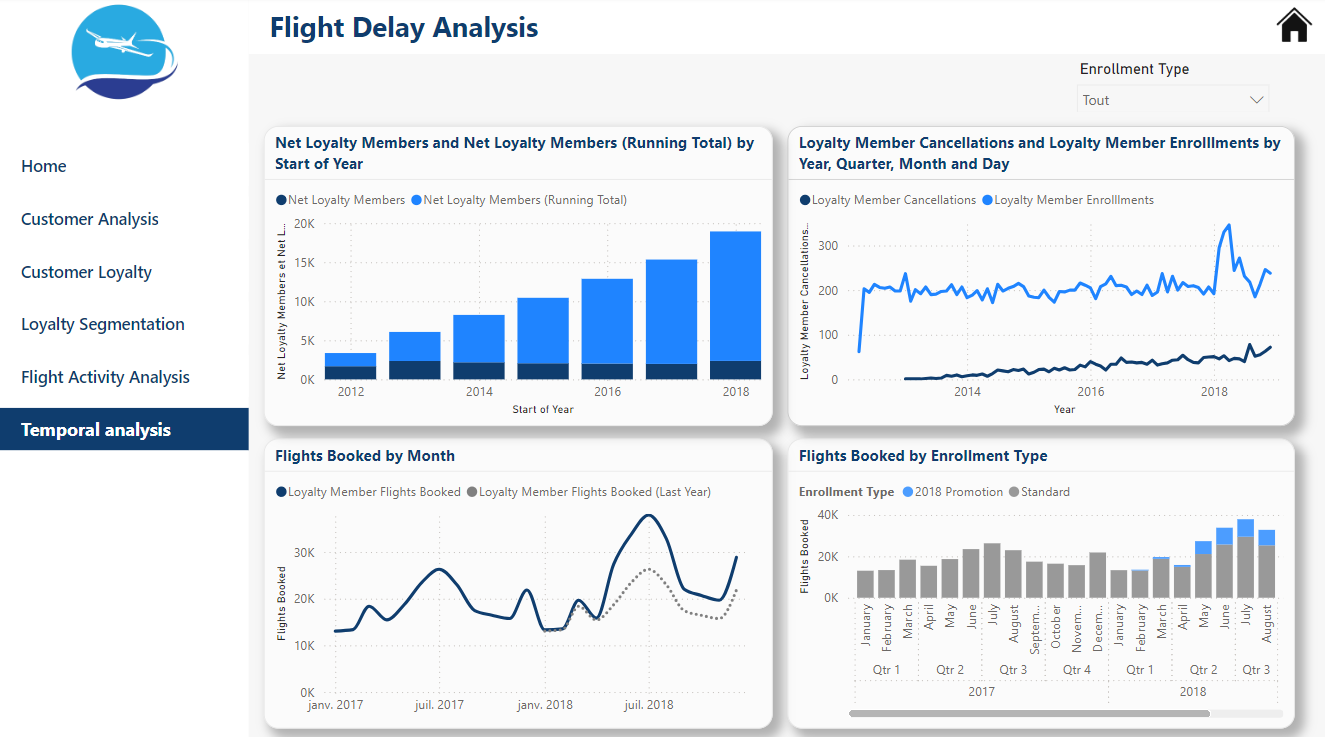

Layout of this report page (visuals, bound fields, positions):
{"tool":"powerbi","page":{"name":"Temporal analysis","canvas":[1280,720],"ordinal":5},"visuals":[{"type":"shape","box":[0,0,240.1,720.4],"z":0},{"type":"shape","box":[239.9,0,1040.1,56.3],"z":1000},{"type":"image","box":[60,0,118.6,107.1],"z":2000},{"type":"image","box":[1218.6,0,61.4,55.7],"z":3000},{"type":"pageNavigator","box":[0,142.4,240.1,298],"z":4000},{"type":"slicer","fields":{"Values":["Customer Loyalty History.Enrollment Type"]},"box":[1029.1,56.7,206.3,55.5],"z":5000},{"type":"lineChart","title":"Loyalty Member Cancellations and Loyalty Member Enrolllments by Year, Quarter, Month and Day","fields":{"Y":["Measures Table.Loyalty Member Cancellations","Measures Table.Loyalty Member Enrolllments"],"Category":["Calendar.Start of Month.Variation.Date Hierarchy.Year","Calendar.Start of Month.Variation.Date Hierarchy.Quarter","Calendar.Start of Month.Variation.Date Hierarchy.Month","Calendar.Start of Month.Variation.Date Hierarchy.Day"]},"box":[760.1,125.5,489.8,289.5],"z":6000},{"type":"columnChart","title":"Net Loyalty Members and Net Loyalty Members (Running Total) by Start of Year","fields":{"Category":["Calendar.Start of Year Hierarchy.Start of Year","Calendar.Start of Year Hierarchy.Start of Quarter","Calendar.Start of Year Hierarchy.Start of Month"],"Y":["Measures Table.Net Loyalty Members","Measures Table.Net Loyalty Members (Running Total)"]},"box":[254.6,125.5,491,289.5],"z":7000},{"type":"lineChart","title":"Flights Booked by Month","fields":{"Category":["Calendar.Start of Year Hierarchy.Start of Year","Calendar.Start of Year Hierarchy.Start of Quarter","Calendar.Start of Year Hierarchy.Start of Month"],"Y":["Measures Table.Loyalty Member Flights Booked","Measures Table.Loyalty Member Flights Booked (Last Year)"]},"box":[254.6,427.1,491,279.9],"z":8000},{"type":"columnChart","title":"Flights Booked by Enrollment Type","fields":{"Category":["Calendar.Start of Month.Variation.Date Hierarchy.Year","Calendar.Start of Month.Variation.Date Hierarchy.Quarter","Calendar.Start of Month.Variation.Date Hierarchy.Month","Calendar.Start of Month.Variation.Date Hierarchy.Day"],"Y":["Measures Table.Loyalty Member Flights Booked"],"Series":["Customer Loyalty History.Enrollment Type"]},"box":[760.1,427.1,489.8,279.9],"z":9000}]}

Visuals, with their boxes on the page's 1280x720 design canvas (x1, y1, x2, y2). These are canvas units, not pixel positions in the 1325x737 screenshot, which may show the page scaled, cropped or inside an application window:
shape: 0 0 240 720
shape: 240 0 1280 56
image: 60 0 179 107
image: 1219 0 1280 56
pageNavigator: 0 142 240 440
slicer - Customer Loyalty History.Enrollment Type: 1029 57 1235 112
"Loyalty Member Cancellations and Loyalty Member Enrolllments by Year, Quarter, Month and Day" lineChart: 760 126 1250 415
"Net Loyalty Members and Net Loyalty Members (Running Total) by Start of Year" columnChart: 255 126 746 415
"Flights Booked by Month" lineChart: 255 427 746 707
"Flights Booked by Enrollment Type" columnChart: 760 427 1250 707
